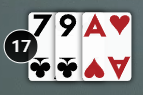7: (30, 12, 53, 38)
9: (57, 13, 79, 39)
a: (83, 13, 108, 40)
